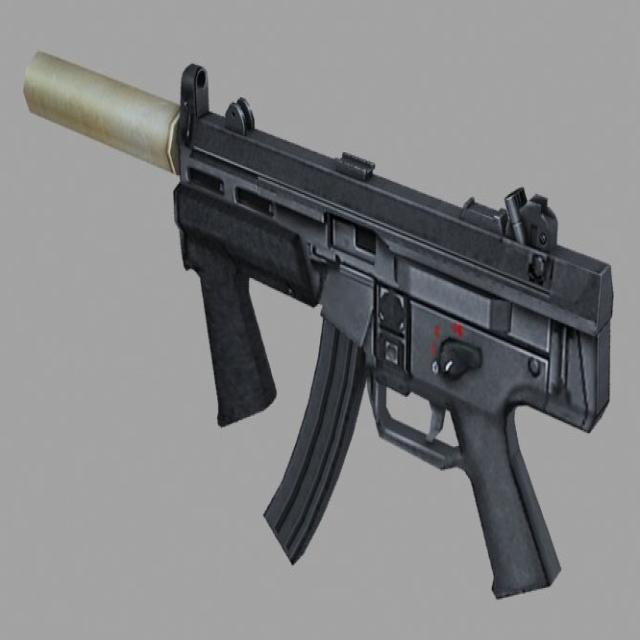Weapon: (23, 54, 612, 597)
